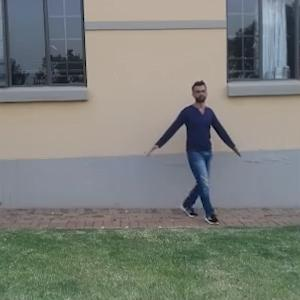land: (143, 84, 238, 229)
